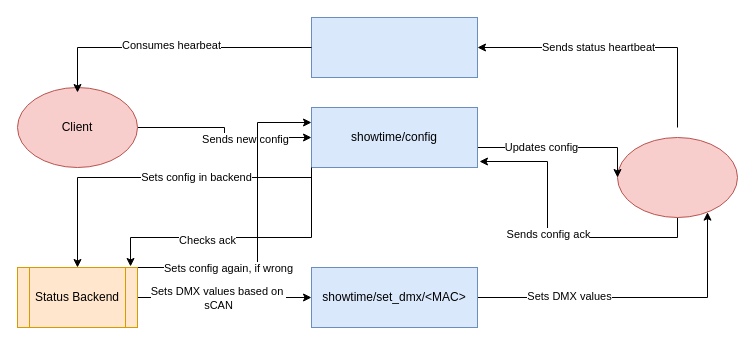
The diagram is 755 pixels wide and 345 high, and some of its shapes have lost their labels. The shapes that lost their labels are listed below. From the top down, each one's centre as x and y in pixels, then its label:
point 394,47: showtime/status
point 677,177: ESP32
